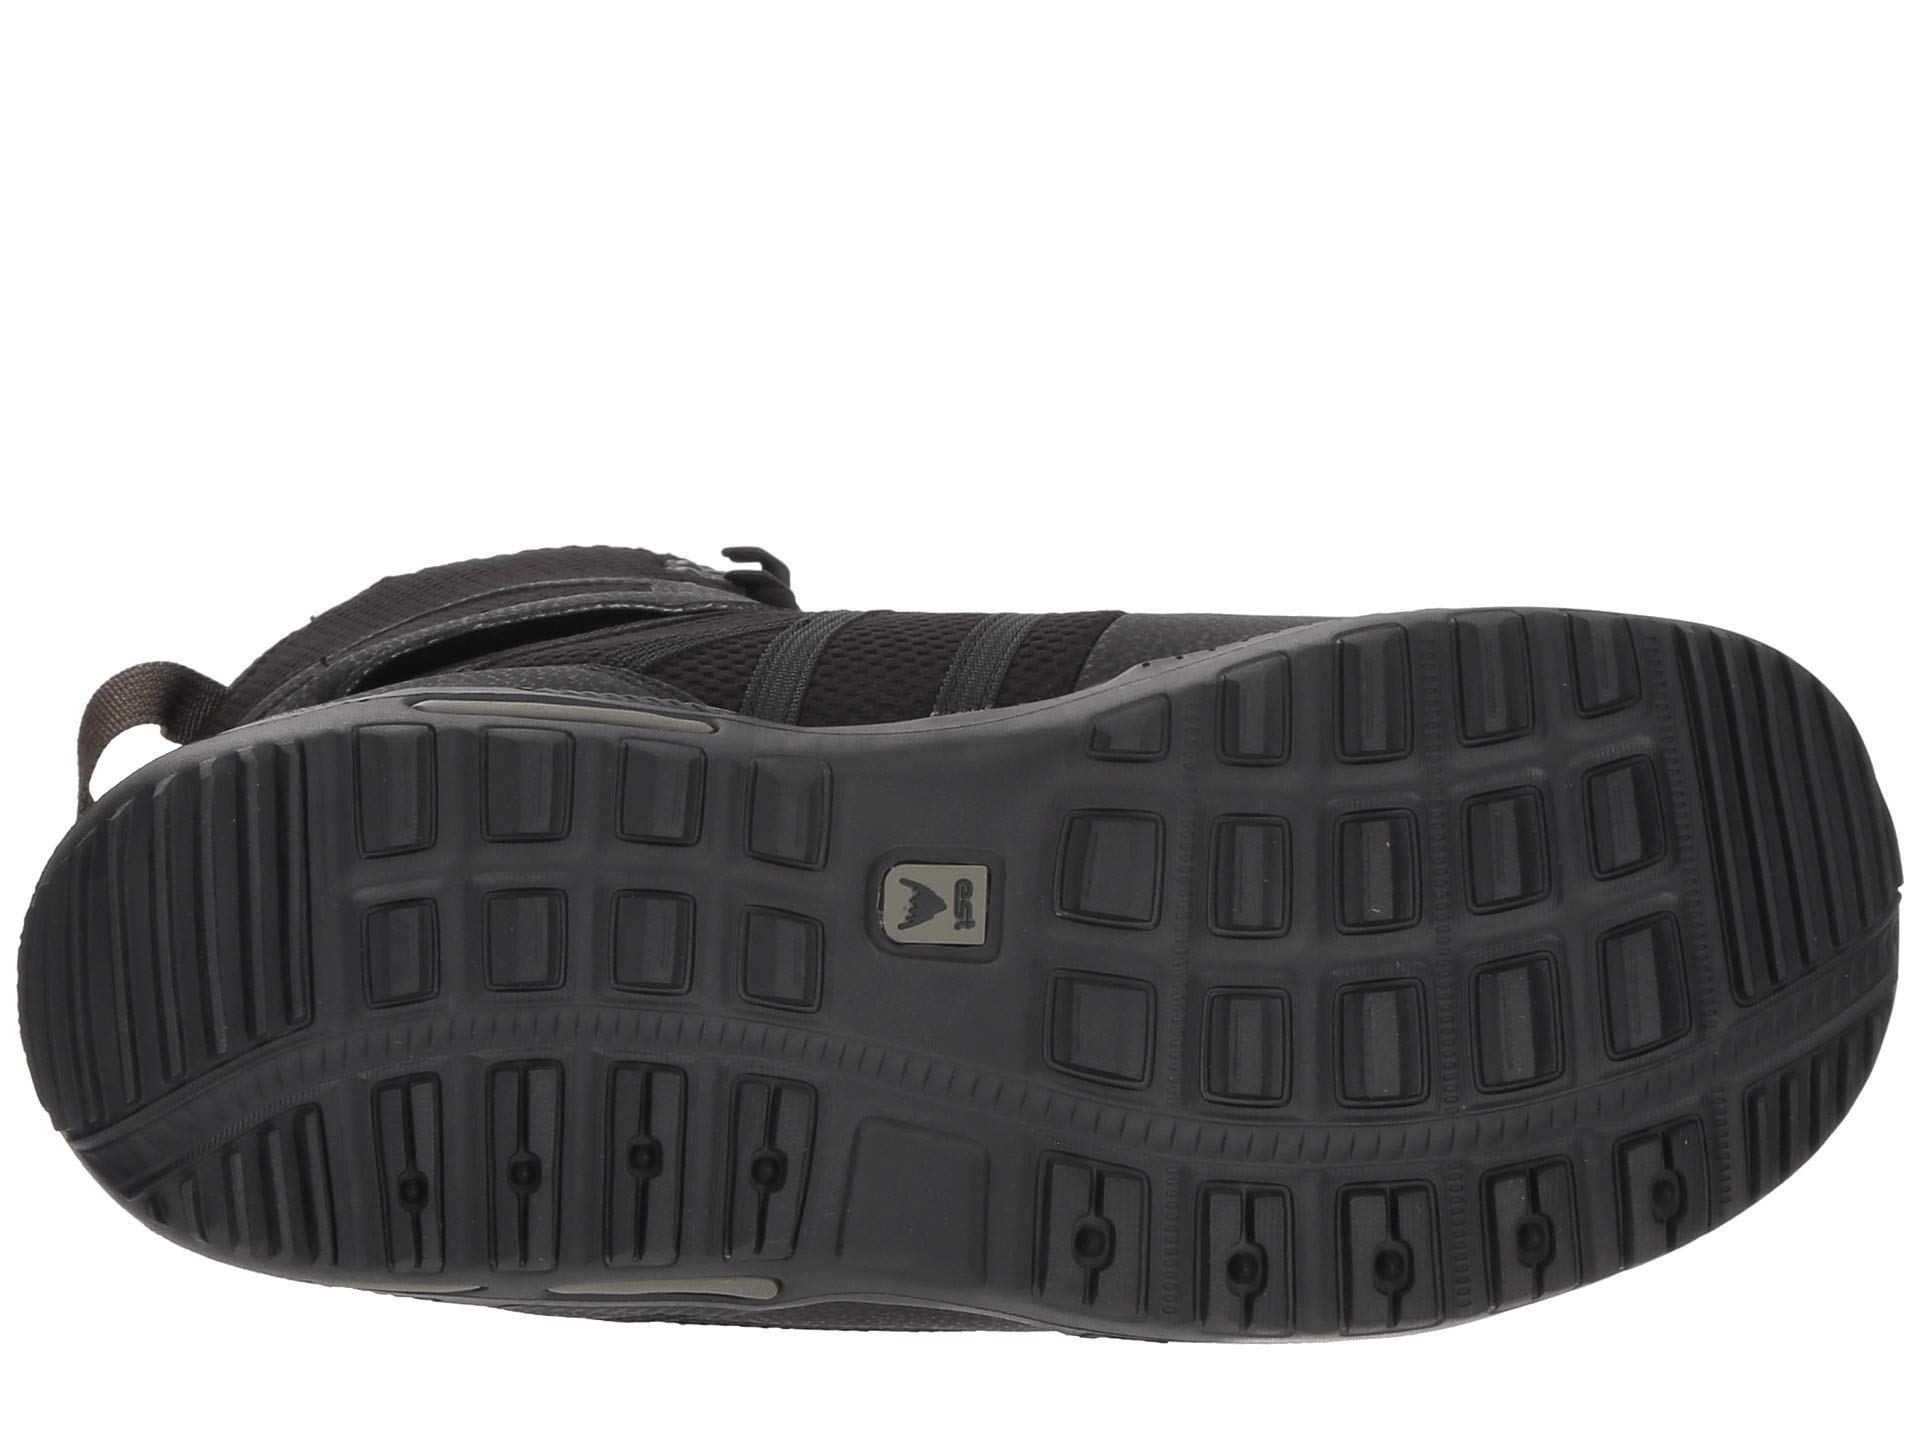quad: (1150, 753, 1587, 1137)
